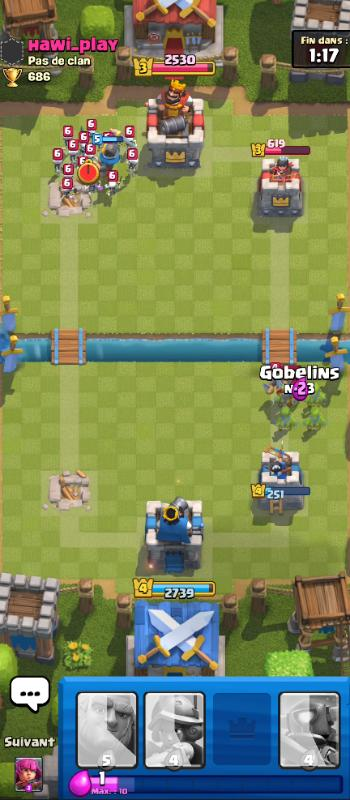chevalier: (265, 367, 303, 400), (96, 140, 122, 175)
geant: (271, 386, 298, 409)
gobelin: (302, 407, 328, 434), (273, 404, 296, 434), (306, 382, 330, 406)
squelette: (60, 178, 77, 204), (59, 162, 78, 185), (121, 132, 139, 151), (105, 178, 121, 198), (80, 149, 100, 165), (60, 131, 77, 146), (52, 153, 64, 174), (129, 155, 139, 179), (78, 133, 88, 154), (68, 148, 79, 167), (80, 126, 99, 136)
